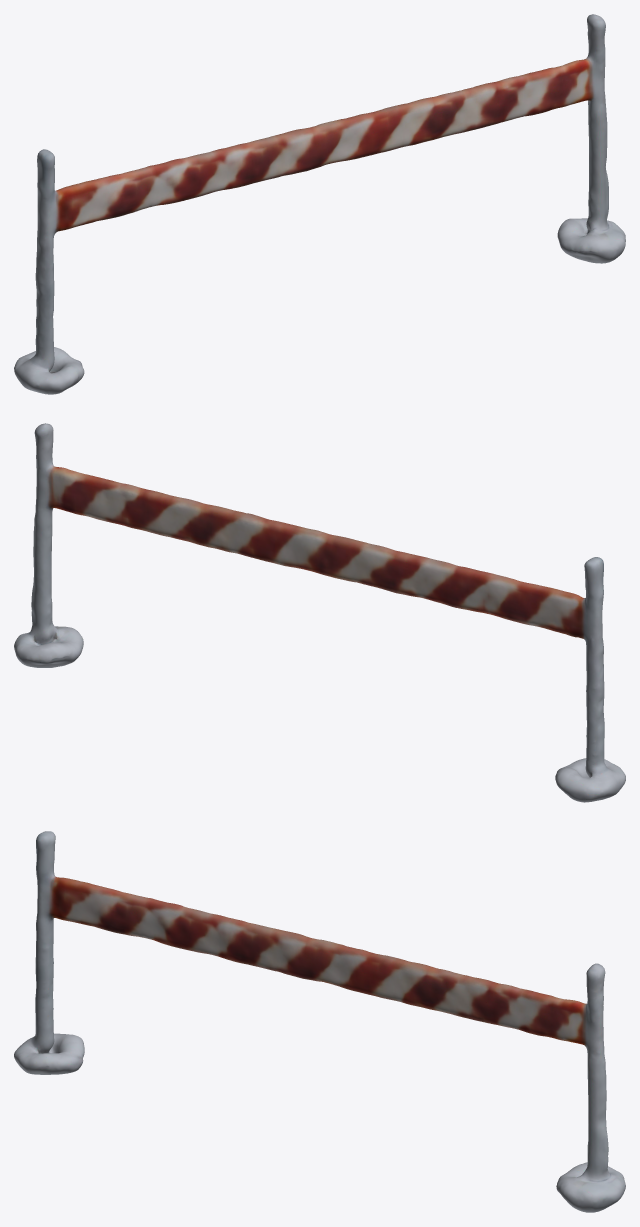
The model's file is 6a7d7b8ad527_exhibition_barrier_.fbx.
The picture shows the model from 3 angles, top to bottom: view 1: azimuth 30°, elevation 25°; view 2: azimuth 150°, elevation 25°; view 3: azimuth 330°, elevation 25°; orthographic projection.
Visible parts, largest first — view 1: high_poly; view 2: high_poly; view 3: high_poly.
Part boxes in pixels (left/top/right/bottom): high_poly: left=14, top=14, right=625, bottom=394; high_poly: left=14, top=423, right=625, bottom=802; high_poly: left=14, top=831, right=625, bottom=1212.
Bounding box in the file's own units: 100 × 38.67 × 10.85.
